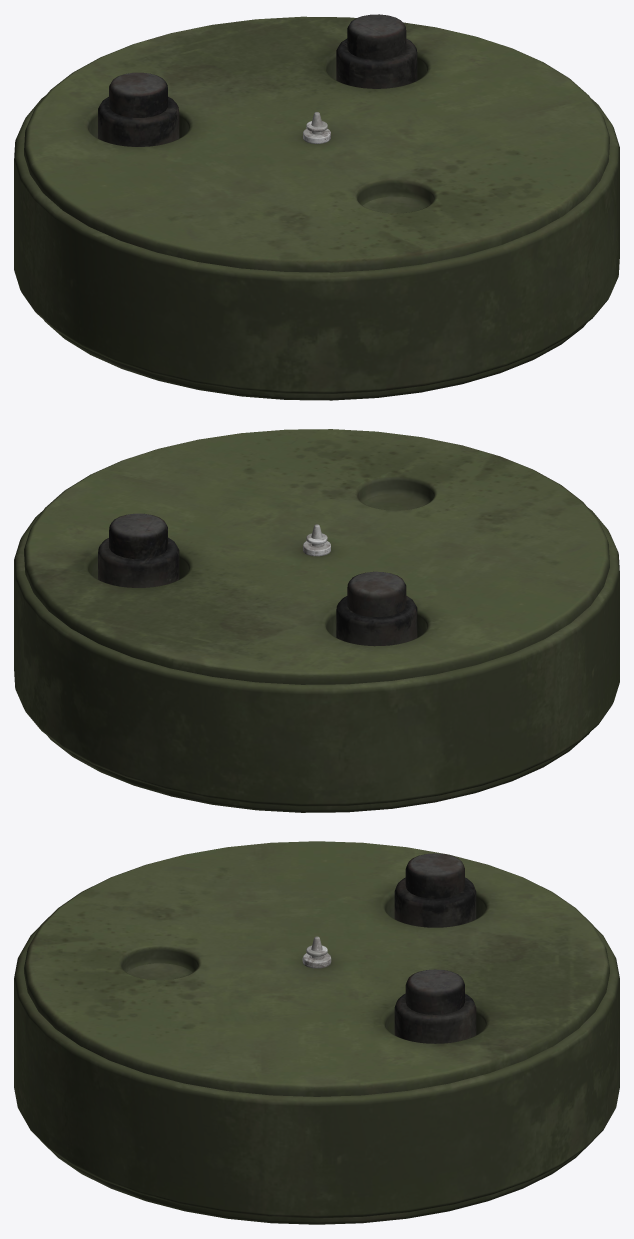
File: ied-plate-model.glb
The picture shows the model from 3 angles, top to bottom: view 1: azimuth 30°, elevation 25°; view 2: azimuth 150°, elevation 25°; view 3: azimuth 270°, elevation 25°; orthographic projection.
Parts seen in each view (by area): view 1: Prop_IED_Plate; view 2: Prop_IED_Plate; view 3: Prop_IED_Plate.
Boxes of the visible parts, x1,y1,x2,y2 form: Prop_IED_Plate: [14, 14, 619, 400]; Prop_IED_Plate: [14, 429, 619, 812]; Prop_IED_Plate: [14, 841, 619, 1224].
Bounding box in the file's own units: 36.75 × 12.18 × 36.75.
Materials: 1 (1 with a texture image).
